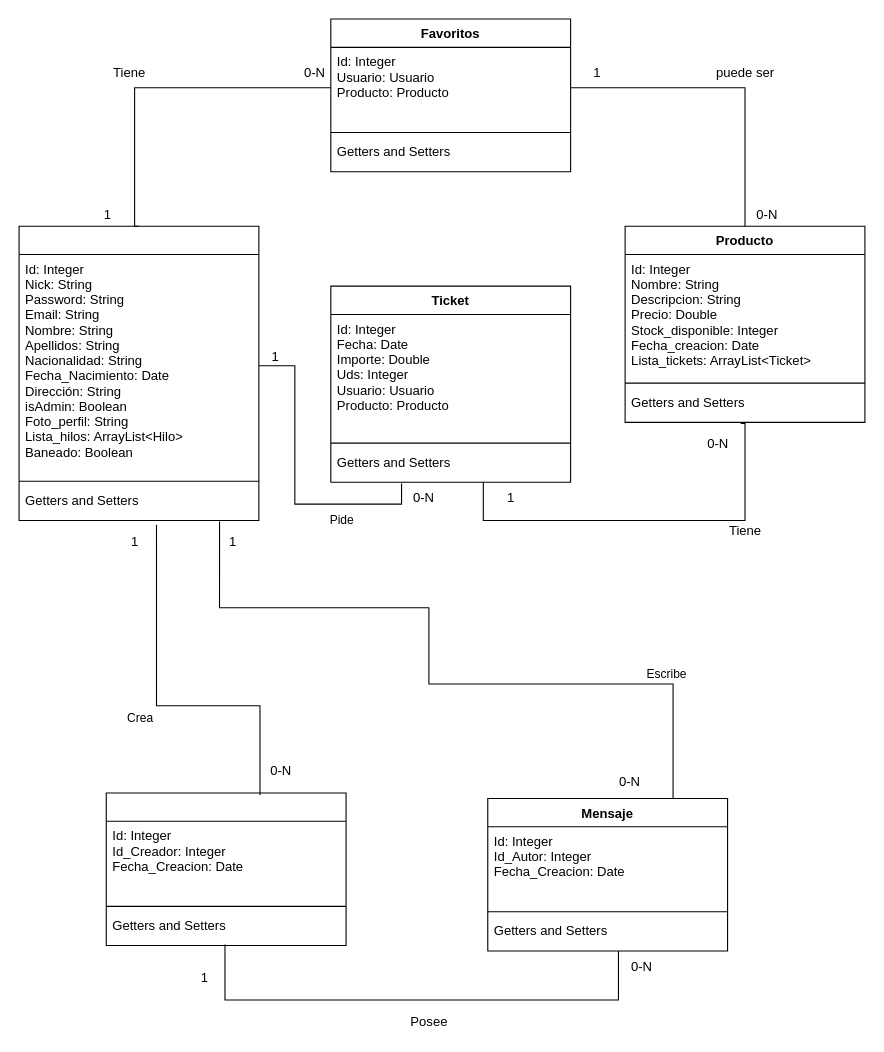
Image size: 884x1052. Some labels were removed from this diagram. Each missing label, with the box of its shape:
Hilo: (105, 792, 346, 946)
Usuario: (18, 225, 259, 520)
